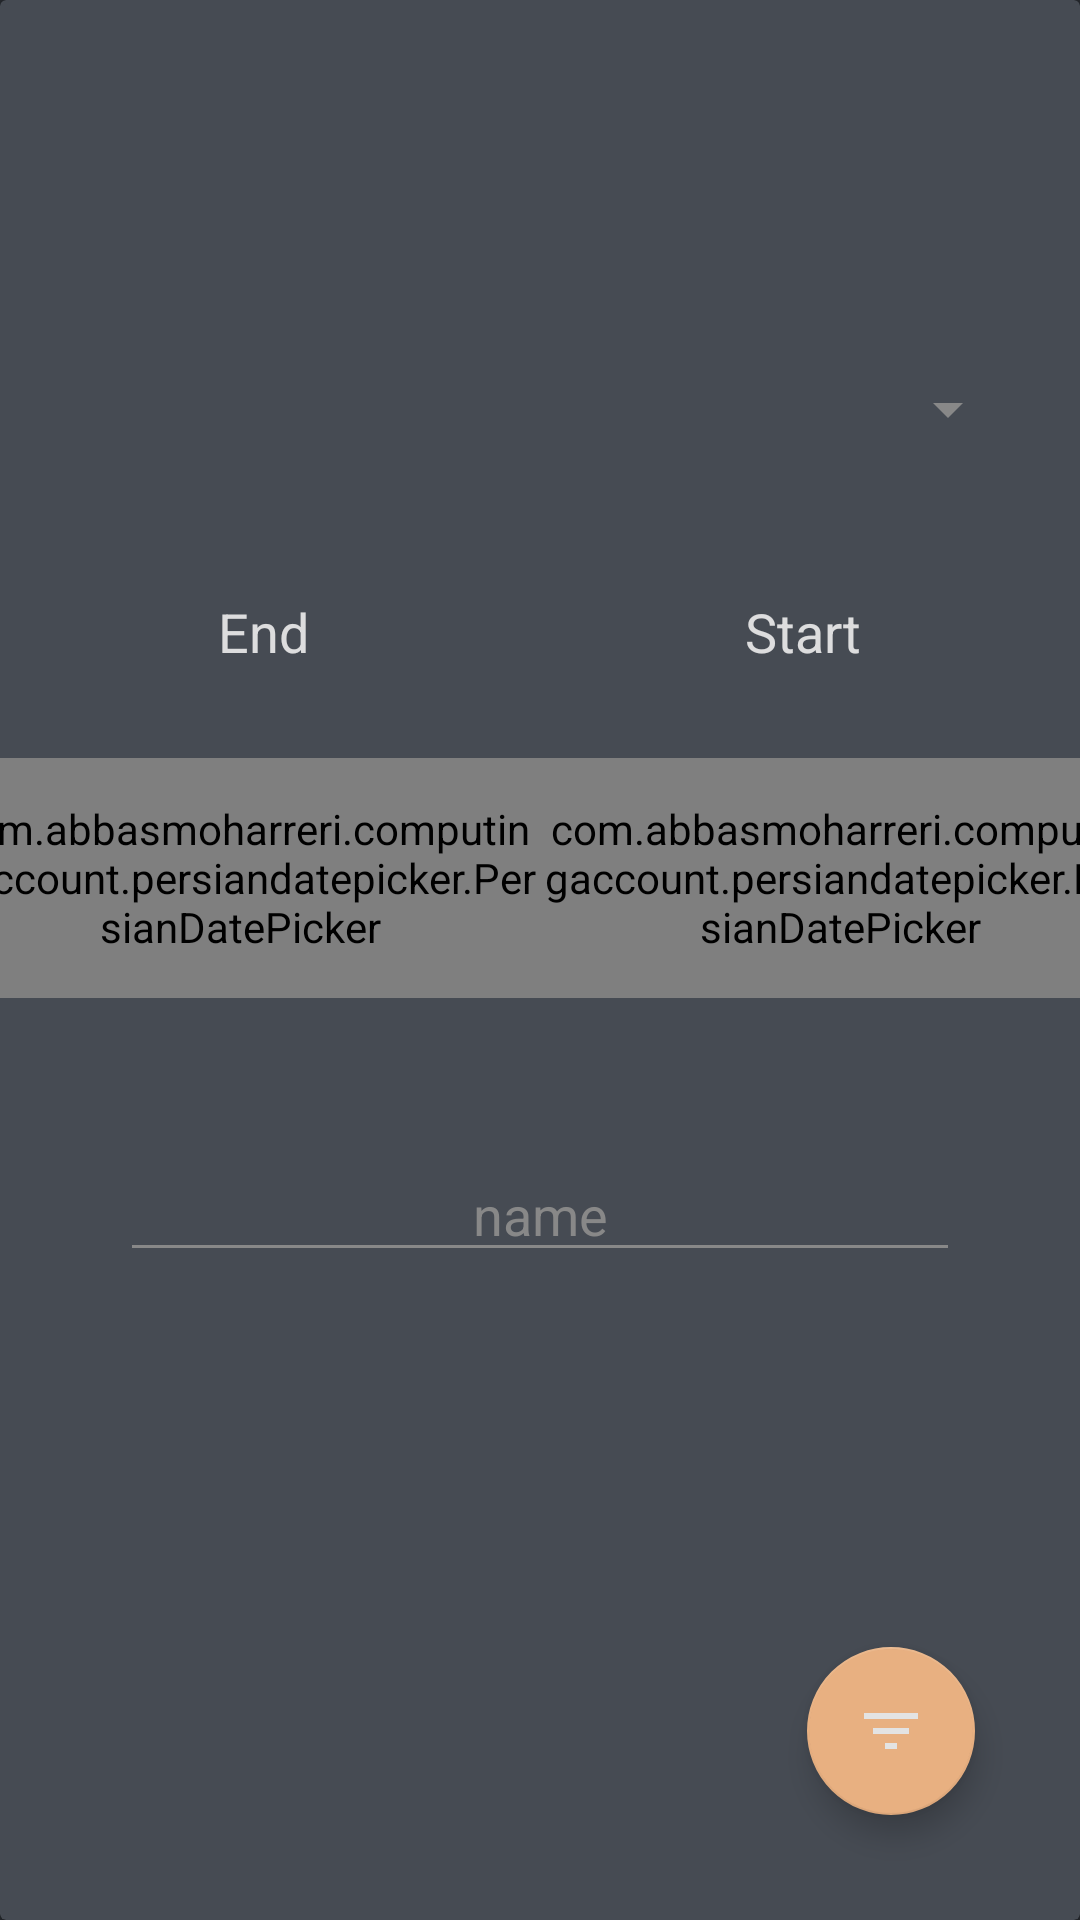

Screen size 1080x1920. Icon name, then its box in pixels as (x1=x1, y1=y1, x2=x2, y2=y2):
filter list: (x1=807, y1=1647, x2=975, y2=1815)
